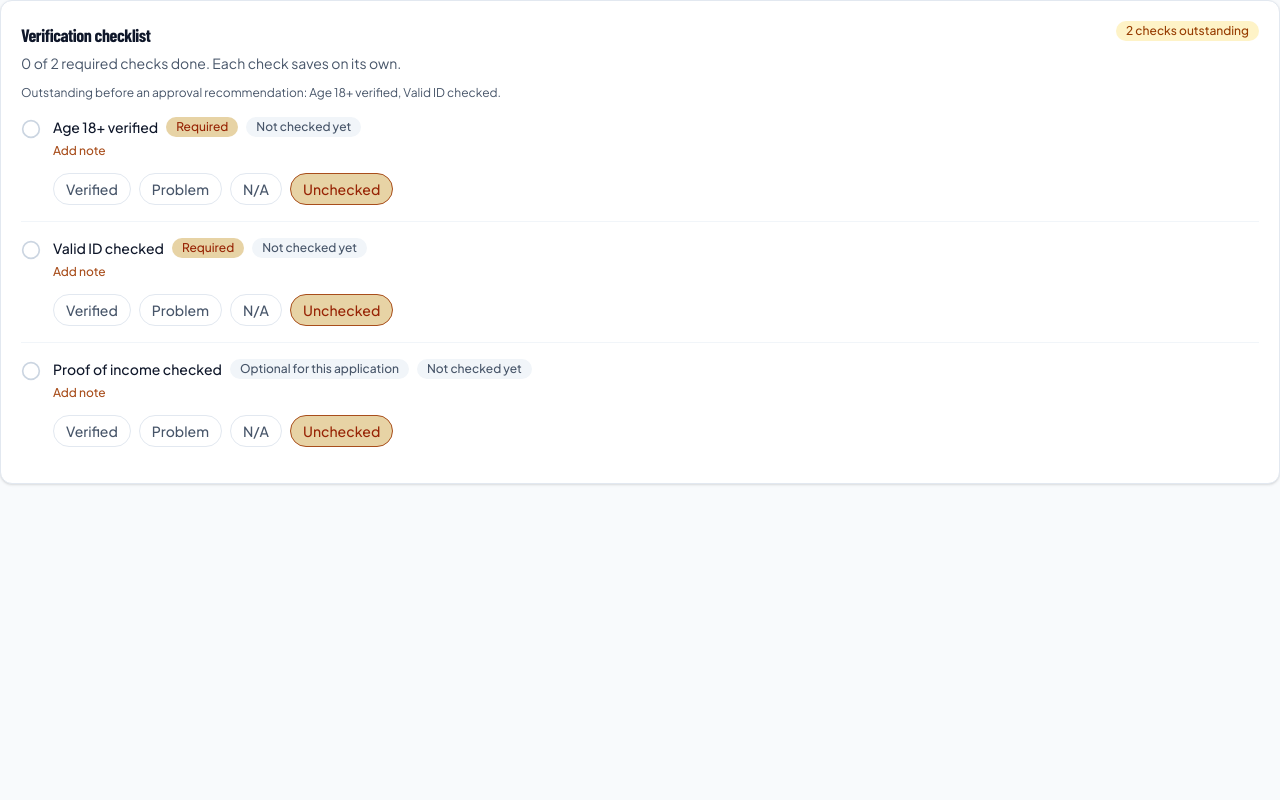
VerificationChecklist › shows a save failure on that item only and keeps the draft
Click the 1st radio button labelled "Verified": (92, 189) [53,173,131,205]
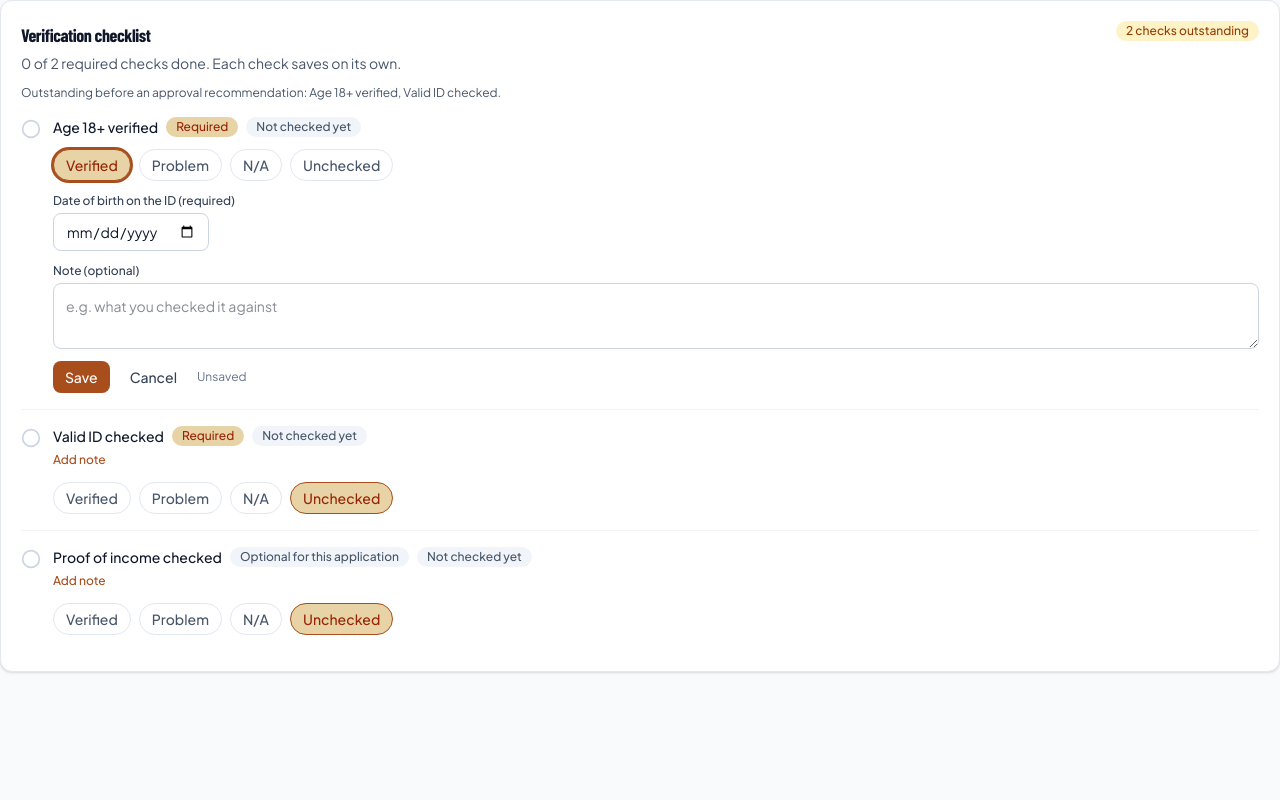
In the date field labelled "Date of birth on the ID (required)": (131, 232) [53,213,209,251], type "1990-05-01"
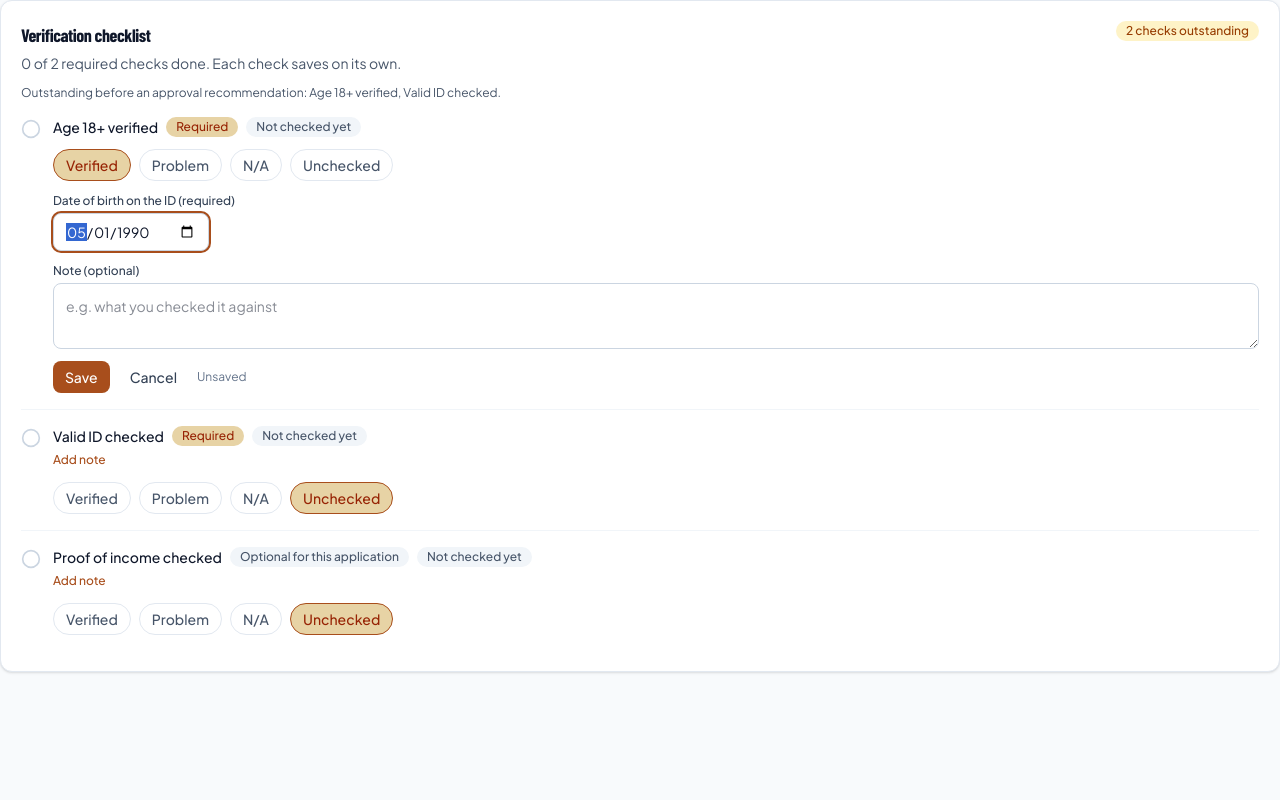
Click the button "Save": (81, 377) [53,361,110,393]
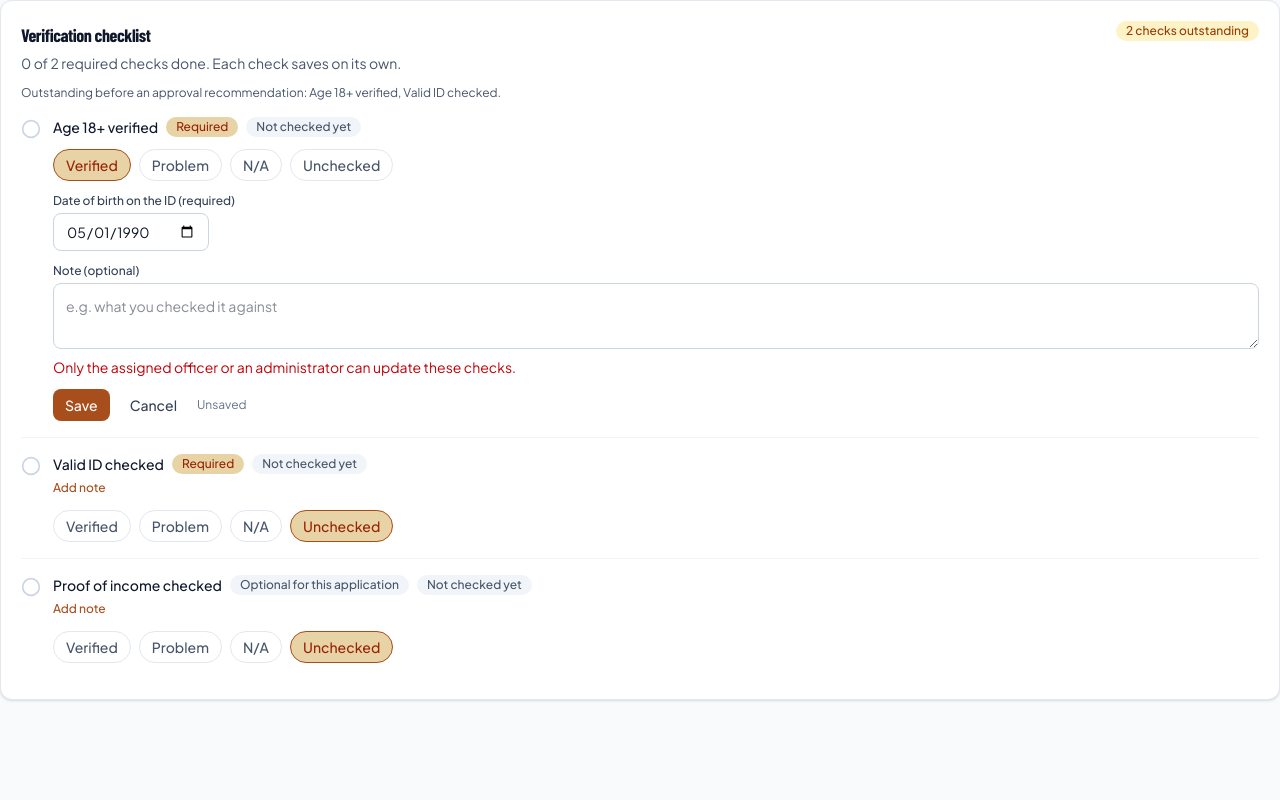
Check: the message shows "assigned officer", box [53,358,516,376]
